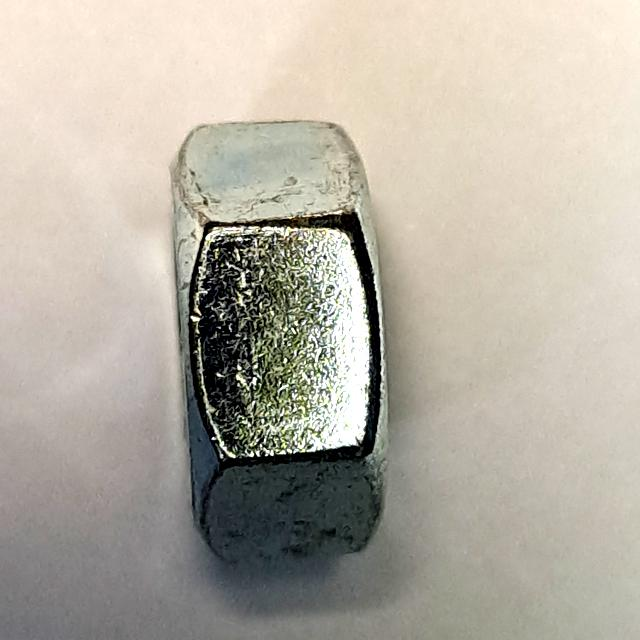Side_Excellent: (152, 104, 403, 584)
